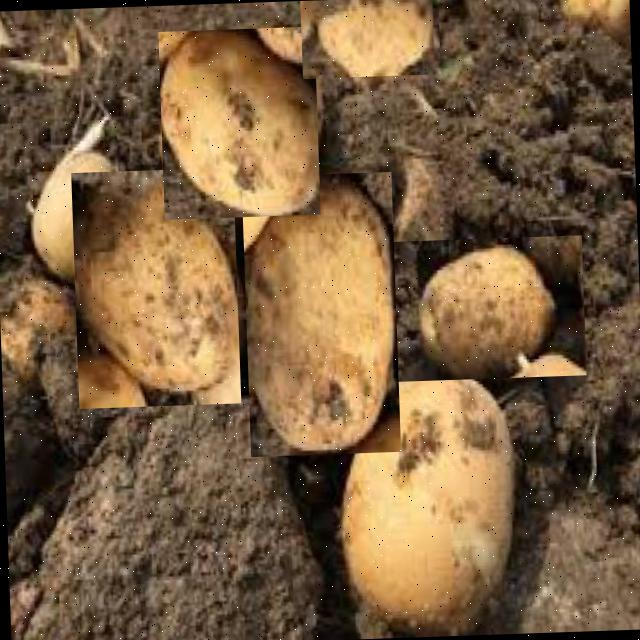Potato: (328, 354, 516, 632), (241, 172, 401, 456), (71, 166, 241, 408), (158, 26, 320, 219), (393, 235, 586, 381), (28, 135, 124, 276), (299, 0, 440, 78)
